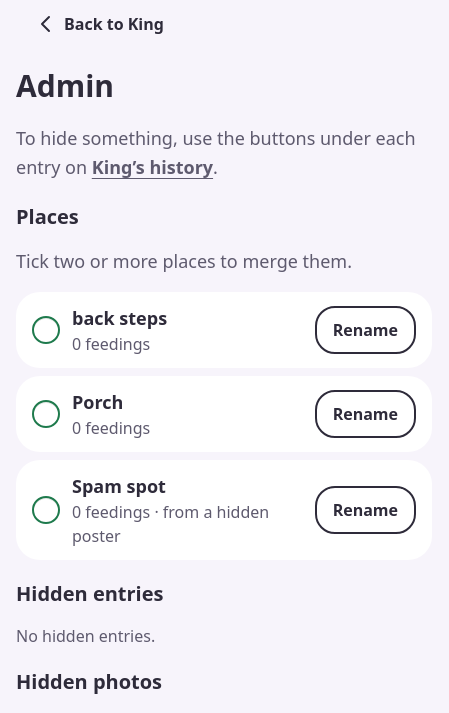
Test: AdminPage — renaming a place › keeps the field open and says so when another place has the name
The image size is (449, 713).
Click the button with aria-label "Rename Porch" at point(365, 414), box x1=315 y1=390 x2=416 y2=438
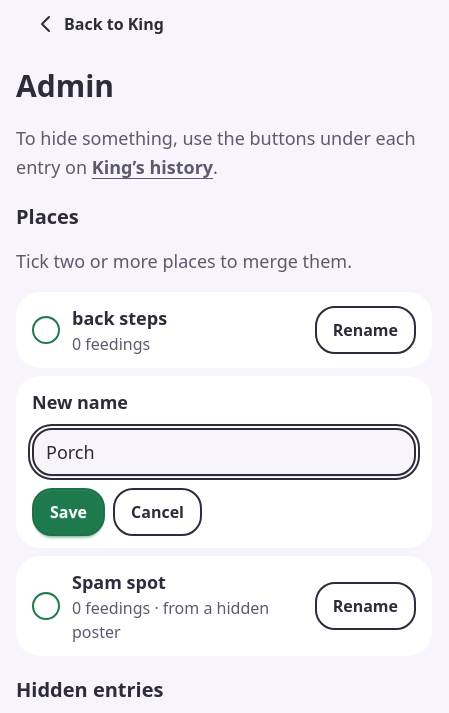
Replace the text in the field labelled "New name" with "Back steps" at point(224, 452), box x1=32 y1=428 x2=416 y2=476
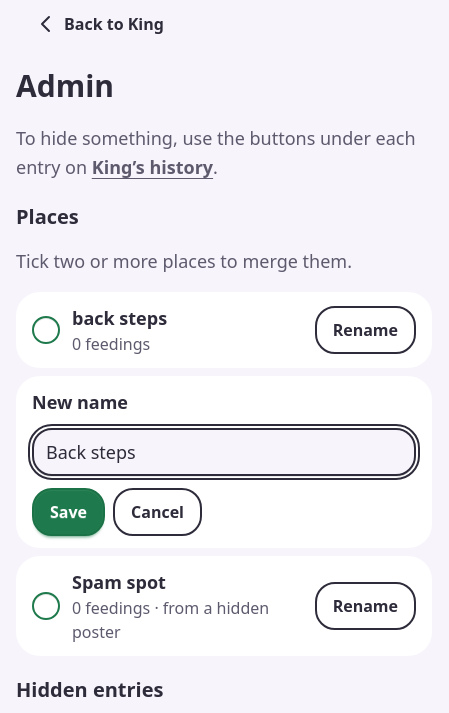
Click the button "Save" at point(68, 512), box x1=32 y1=488 x2=105 y2=536
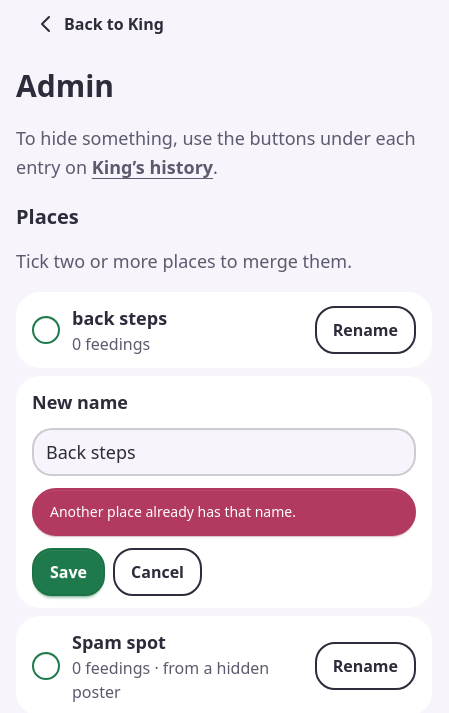
Check: the message reads "Another place already has that name.", box x1=50 y1=502 x2=296 y2=521
